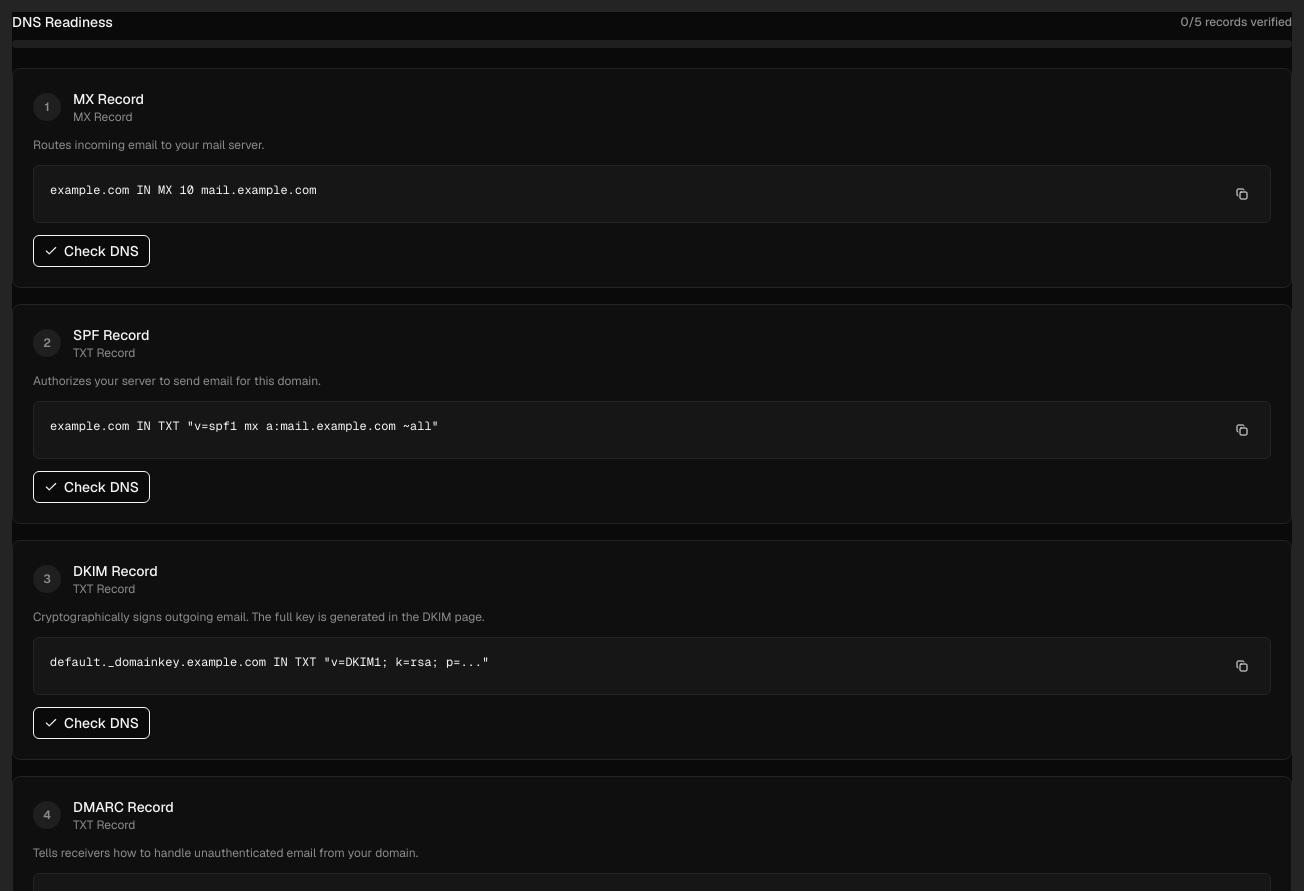
DnsWizard › shows failed state when DNS check returns invalid
What coordinates should you click on to do the following:
click the button with test id "verify-step-1"
I would click on:
 (92, 251)
Its box is [33,235,150,267].
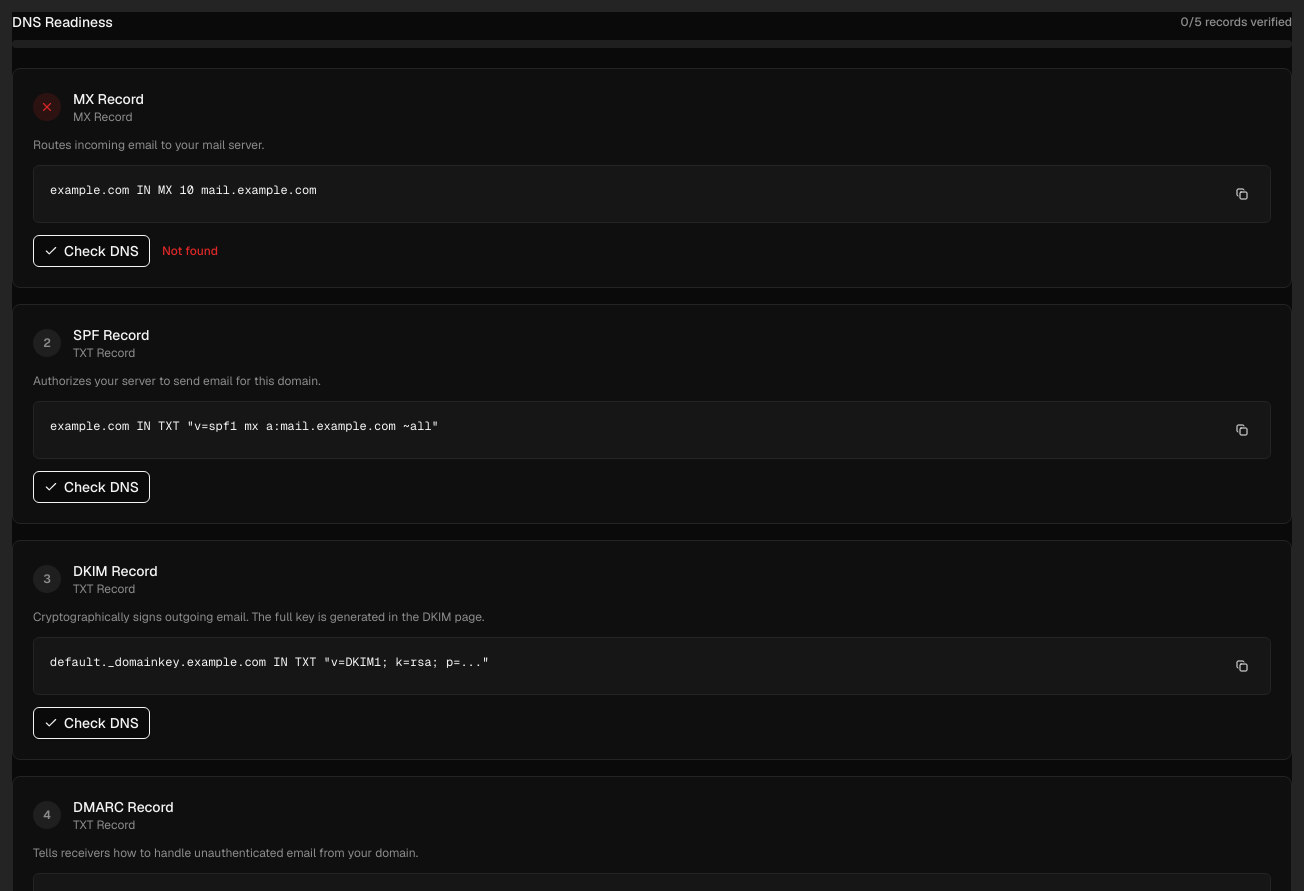
Expected: the text "Not found" is shown, [162,243,218,259]
